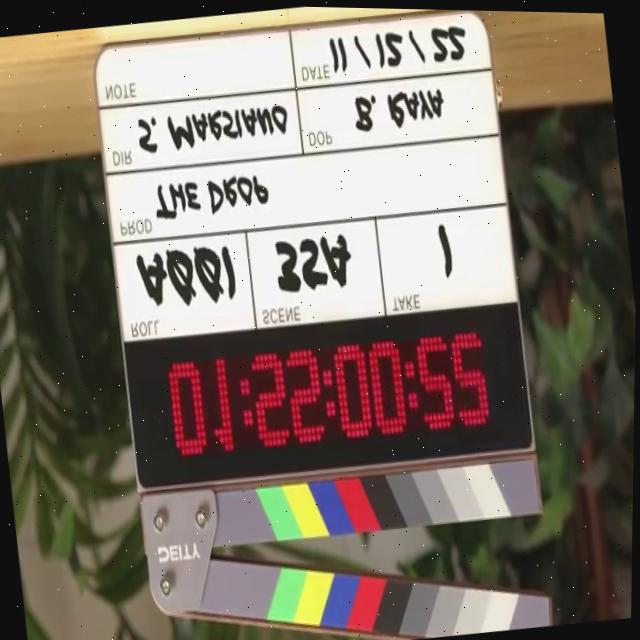Clapperboard: (93, 9, 555, 639)
